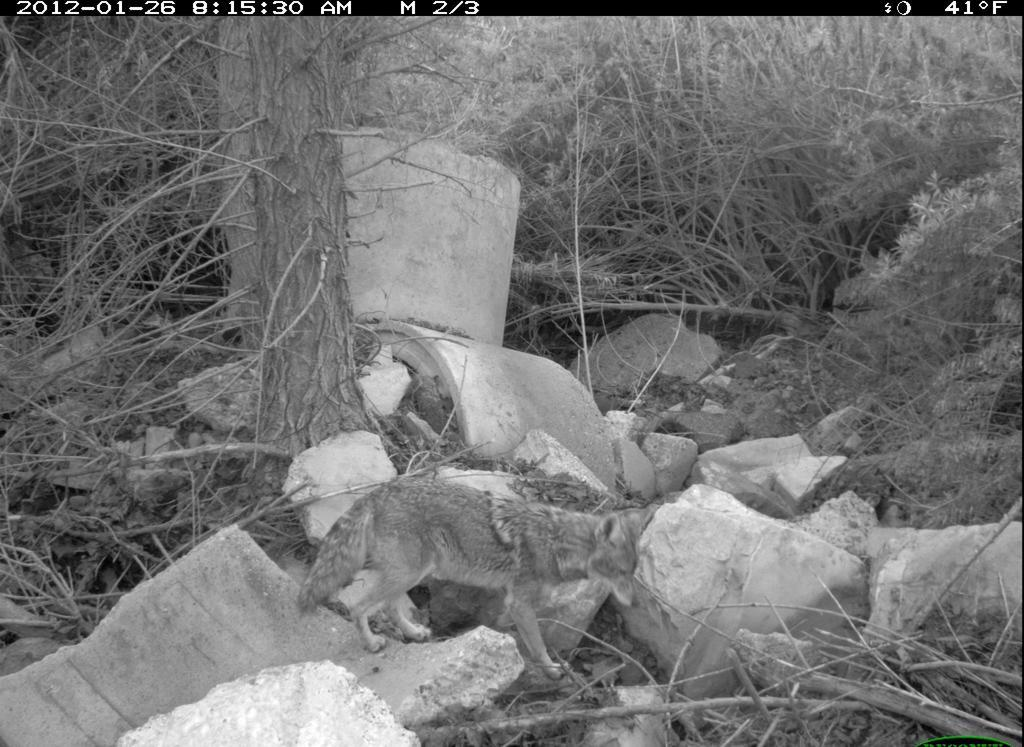coyote: (289, 469, 647, 687)
